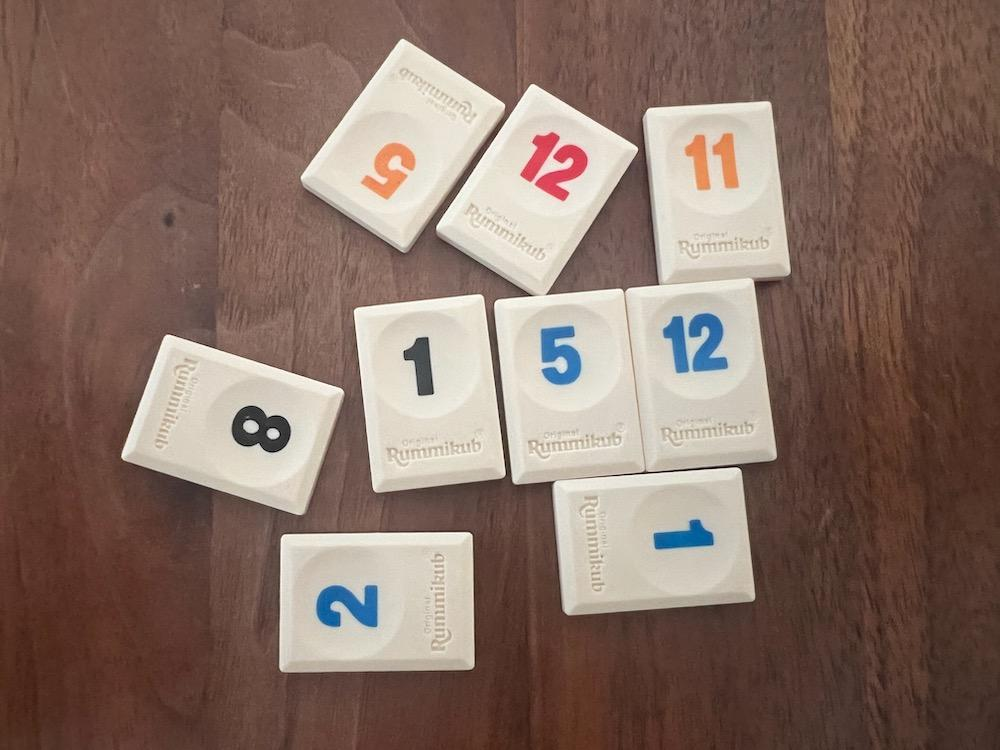black_1: (354, 296, 504, 492)
black_8: (121, 336, 344, 514)
blue_1: (553, 469, 754, 615)
blue_12: (625, 279, 777, 471)
blue_2: (281, 533, 475, 672)
blue_5: (496, 289, 644, 483)
orange_11: (643, 102, 791, 281)
orange_5: (301, 39, 504, 252)
red_12: (436, 84, 637, 295)
